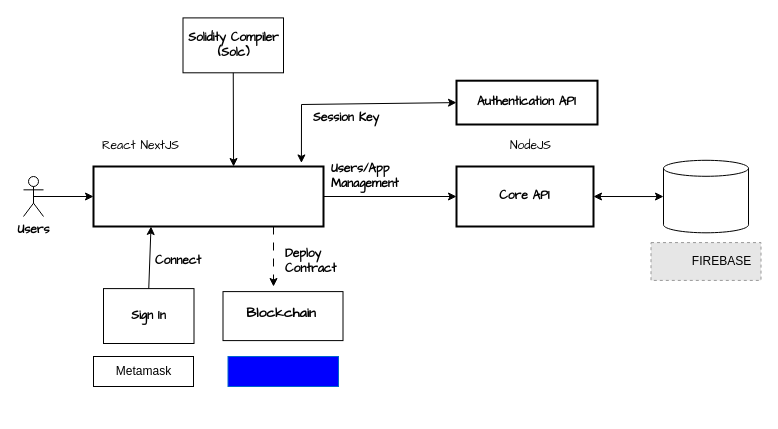
Image size: 778x429. Some labels were removed from this diagram. Grey dashed boxes stand in for pictures. The shapes that lost their labels are listed below. From the top down, each one's box as (x1, y1, x2, y2) in pixels, then its label:
(92, 165, 324, 227): Web Application
(662, 159, 748, 233): Offchain Database
(227, 356, 338, 386): Lightlink
